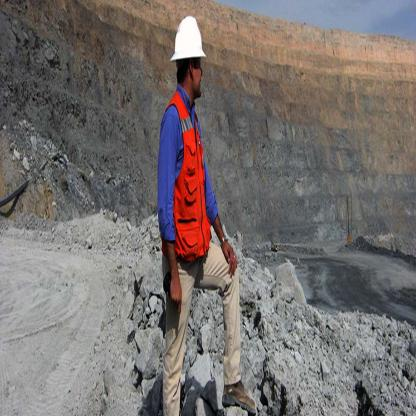person: (150, 11, 260, 415)
